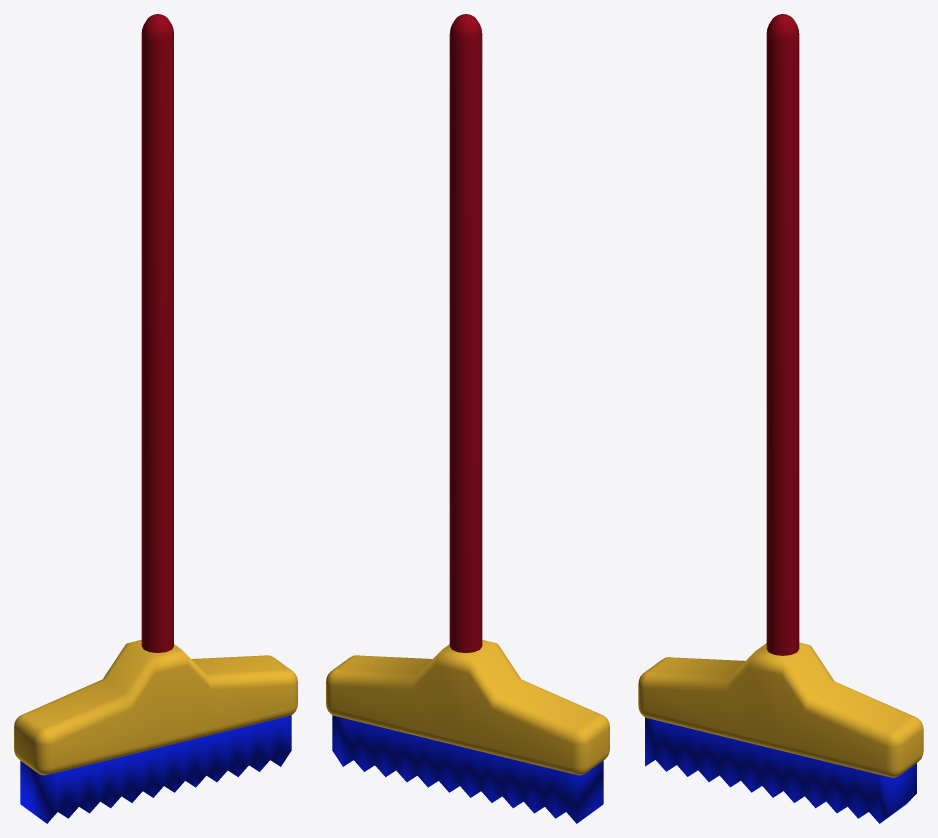
The model's file is limpieza_hogar.glb.
3 views of the same model, side by side, from view 1: azimuth 30°, elevation 25°; view 2: azimuth 150°, elevation 25°; view 3: azimuth 330°, elevation 25° (orthographic).
Visible parts, largest first — view 1: escoba; view 2: escoba; view 3: escoba.
Boxes of the visible parts, left/top/right/bottom form: escoba: left=14, top=14, right=297, bottom=823; escoba: left=326, top=14, right=609, bottom=823; escoba: left=638, top=14, right=923, bottom=823.
Bounding box in the file's own units: 4.66 × 13.07 × 0.9578.
